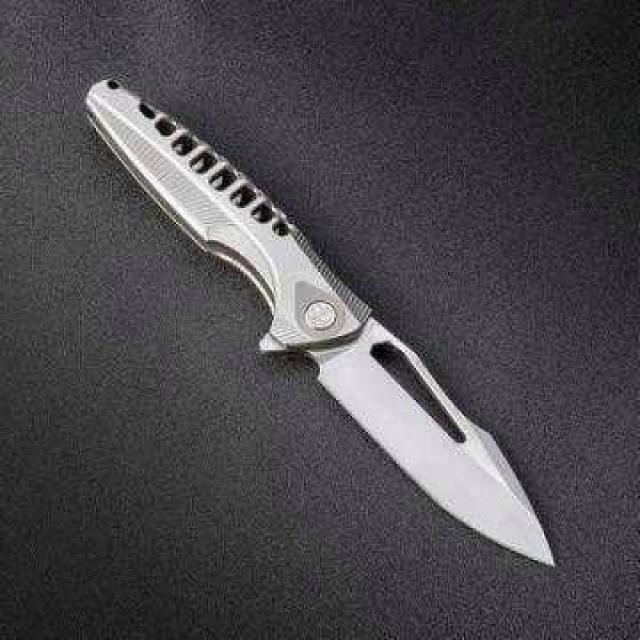Knife: (86, 80, 554, 564)
